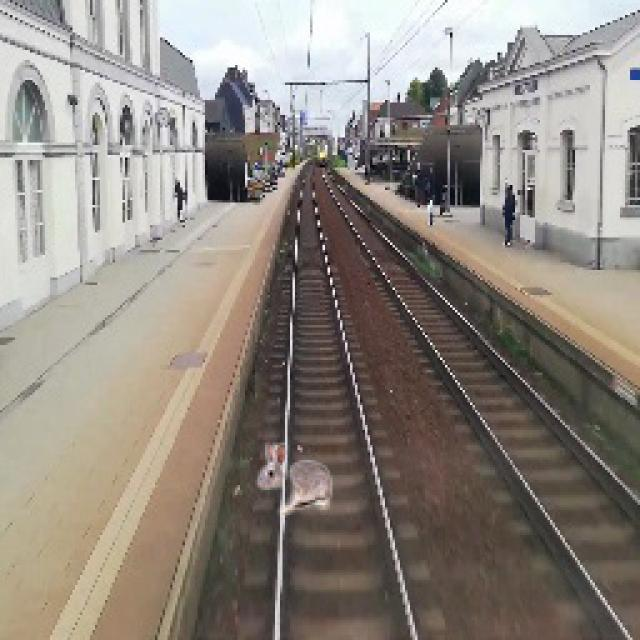danger: (250, 441, 334, 518)
rail: (219, 166, 453, 639)
